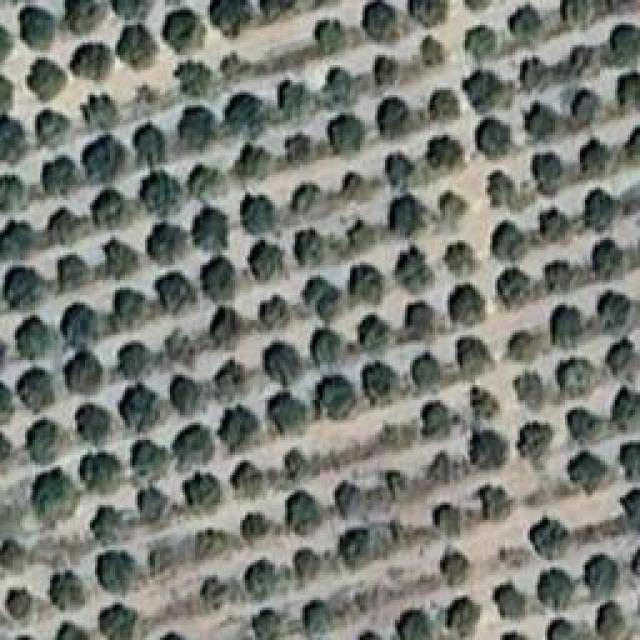Tree: (550, 352, 603, 397), (353, 363, 402, 411), (77, 450, 123, 498), (315, 375, 357, 427), (35, 470, 80, 518), (240, 560, 288, 605), (351, 265, 394, 315), (83, 135, 127, 183), (140, 170, 184, 217), (100, 550, 144, 596), (383, 203, 430, 246), (268, 395, 308, 445), (163, 10, 207, 55), (180, 470, 223, 516), (362, 0, 407, 43), (490, 222, 532, 268), (510, 370, 551, 416), (538, 298, 585, 338), (3, 268, 46, 311), (172, 426, 216, 468), (118, 25, 159, 70), (325, 110, 366, 155), (443, 283, 486, 325), (563, 453, 605, 496), (508, 5, 549, 49), (148, 223, 189, 266), (155, 273, 198, 314), (460, 65, 501, 108), (525, 145, 566, 188), (540, 573, 584, 613), (18, 367, 57, 412), (328, 65, 363, 115), (225, 93, 263, 139), (528, 515, 569, 557), (28, 58, 68, 101), (350, 314, 389, 358), (508, 328, 549, 369), (65, 350, 104, 393), (190, 525, 229, 568), (60, 304, 98, 348), (123, 382, 160, 427), (173, 373, 208, 420), (440, 543, 481, 583), (470, 123, 509, 165), (70, 43, 113, 81), (392, 603, 437, 639), (193, 208, 228, 254), (80, 405, 119, 446), (515, 53, 556, 92), (180, 108, 216, 152), (200, 257, 235, 302), (340, 168, 380, 207), (587, 547, 620, 594), (15, 315, 51, 358), (285, 490, 319, 535), (402, 247, 436, 292), (602, 22, 636, 67), (128, 440, 167, 479), (495, 273, 533, 313), (90, 510, 127, 551), (195, 570, 232, 611), (248, 240, 284, 282), (265, 348, 300, 391), (447, 597, 482, 640), (133, 123, 166, 168), (440, 240, 478, 279), (384, 514, 422, 553), (48, 208, 88, 245), (213, 0, 253, 37), (343, 530, 380, 570), (515, 422, 547, 468), (210, 305, 244, 348), (235, 143, 274, 180), (103, 238, 138, 279), (187, 165, 225, 202), (80, 95, 119, 131), (575, 135, 611, 174), (43, 155, 78, 195), (0, 115, 28, 165), (298, 548, 333, 588), (213, 360, 246, 402), (35, 110, 71, 148), (313, 20, 351, 56), (470, 438, 506, 476), (240, 515, 279, 550), (523, 100, 558, 139), (243, 195, 277, 235), (0, 220, 34, 260), (93, 190, 127, 230), (412, 355, 446, 395), (592, 600, 626, 640), (65, 0, 106, 33), (460, 28, 499, 62), (483, 485, 517, 524), (607, 340, 640, 380), (23, 8, 54, 50), (603, 290, 634, 332), (540, 205, 576, 241), (305, 283, 342, 318), (308, 333, 342, 371), (8, 590, 47, 623), (385, 154, 425, 186), (435, 500, 465, 542), (175, 63, 213, 96), (593, 243, 624, 283), (405, 308, 435, 349), (378, 57, 413, 92), (428, 140, 463, 175), (278, 80, 311, 117), (118, 343, 151, 380), (567, 408, 599, 446), (148, 545, 178, 585), (542, 260, 575, 296), (379, 467, 412, 503), (27, 418, 59, 455), (58, 255, 89, 293), (224, 408, 254, 447), (420, 403, 450, 442), (464, 338, 494, 377), (0, 538, 29, 578), (113, 293, 144, 330), (233, 466, 268, 498), (260, 295, 291, 331), (565, 43, 596, 79), (295, 230, 325, 267), (165, 328, 195, 365), (303, 602, 333, 639), (492, 175, 524, 209), (437, 190, 469, 224), (327, 482, 359, 516), (495, 580, 527, 614), (558, 3, 594, 33), (585, 193, 614, 230), (108, 603, 139, 637), (380, 95, 410, 130), (615, 385, 639, 428), (430, 452, 461, 485), (540, 615, 580, 640), (428, 88, 458, 121), (140, 490, 170, 523), (255, 607, 285, 640), (573, 83, 597, 124), (473, 385, 503, 417), (58, 613, 93, 640), (293, 183, 322, 215), (53, 570, 80, 603), (257, 0, 298, 21), (283, 450, 309, 483), (0, 176, 25, 210), (220, 53, 250, 81), (415, 38, 445, 66), (413, 0, 450, 22), (285, 132, 311, 162), (625, 73, 640, 123), (348, 218, 374, 246), (622, 440, 640, 480), (623, 485, 640, 523), (625, 128, 640, 170), (3, 75, 16, 113), (0, 25, 13, 62), (505, 625, 527, 640), (460, 0, 488, 10)
